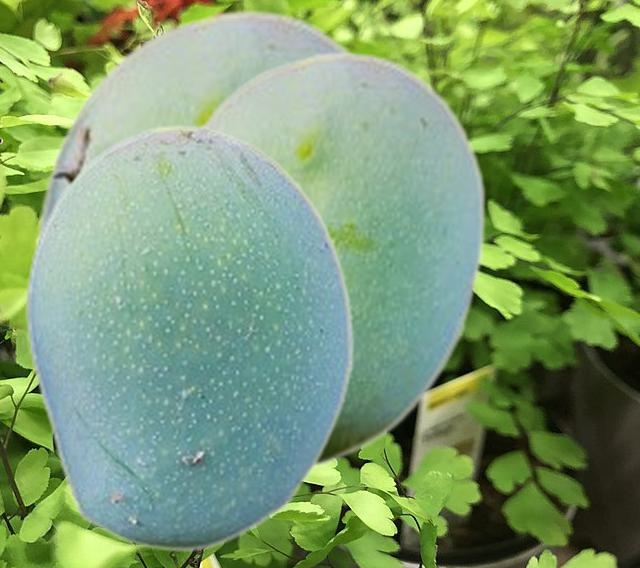green_mango: (23, 123, 354, 552), (196, 50, 486, 468), (34, 8, 354, 240)
